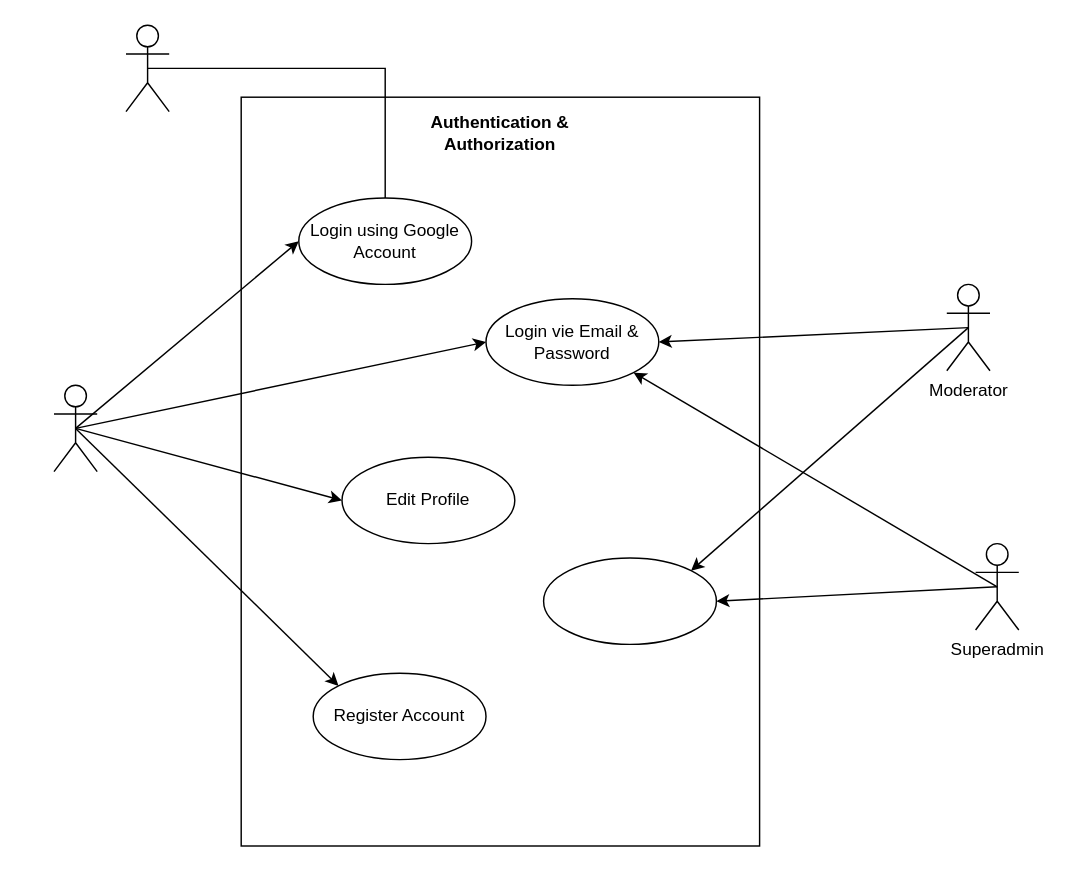
Image size: 1068x871. Some labels were removed from this diagram. Here are the shapes that lost their labels. From the top down, the centre of each, then its label:
At (x=147, y=68): "Google Identity Provider".
At (x=75, y=428): "Primary User".
At (x=629, y=600): "Manage account".
